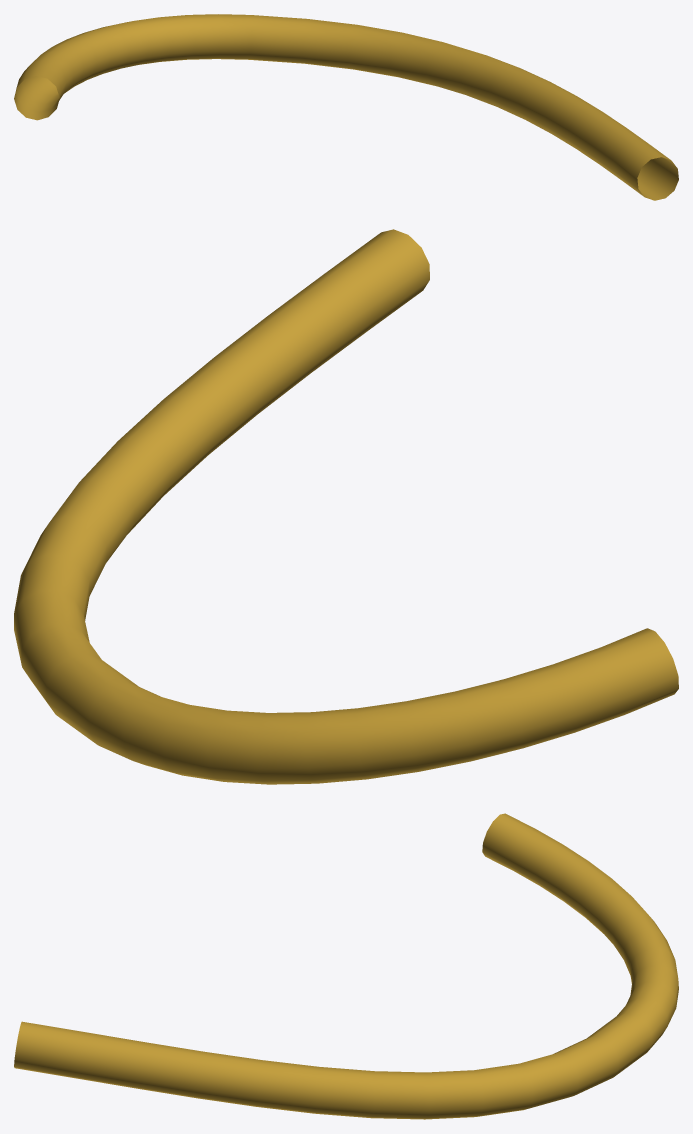
3 renders of one model, top to bottom at view 1: azimuth 30°, elevation 25°; view 2: azimuth 150°, elevation 25°; view 3: azimuth 270°, elevation 25°, orthographic. The views are drawn at different scales.
Visible parts, largest first — view 1: 左侧正中神经与尺神经交通支; view 2: 左侧正中神经与尺神经交通支; view 3: 左侧正中神经与尺神经交通支.
Part boxes in pixels (box(x1,y1,x2,y2)): 左侧正中神经与尺神经交通支: box(14, 14, 678, 200); 左侧正中神经与尺神经交通支: box(14, 229, 678, 784); 左侧正中神经与尺神经交通支: box(14, 813, 678, 1119).
Bounding box in the file's own units: 0.0169 × 0.00352 × 0.0206.
